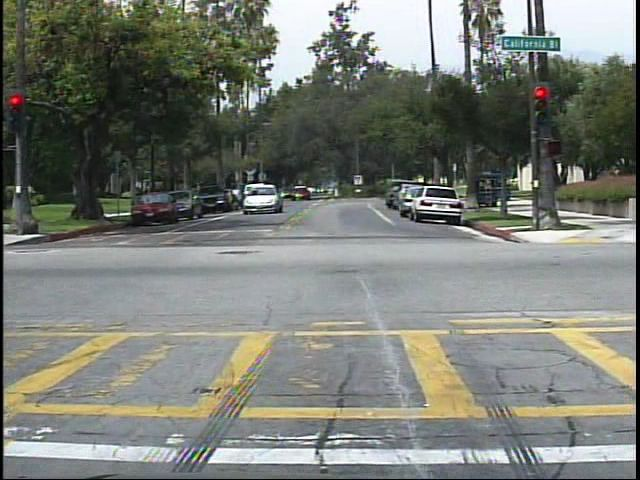car: (410, 186, 460, 225), (241, 182, 282, 212), (133, 193, 174, 223), (200, 181, 227, 209), (174, 187, 200, 216)
strada: (1, 216, 627, 472)
